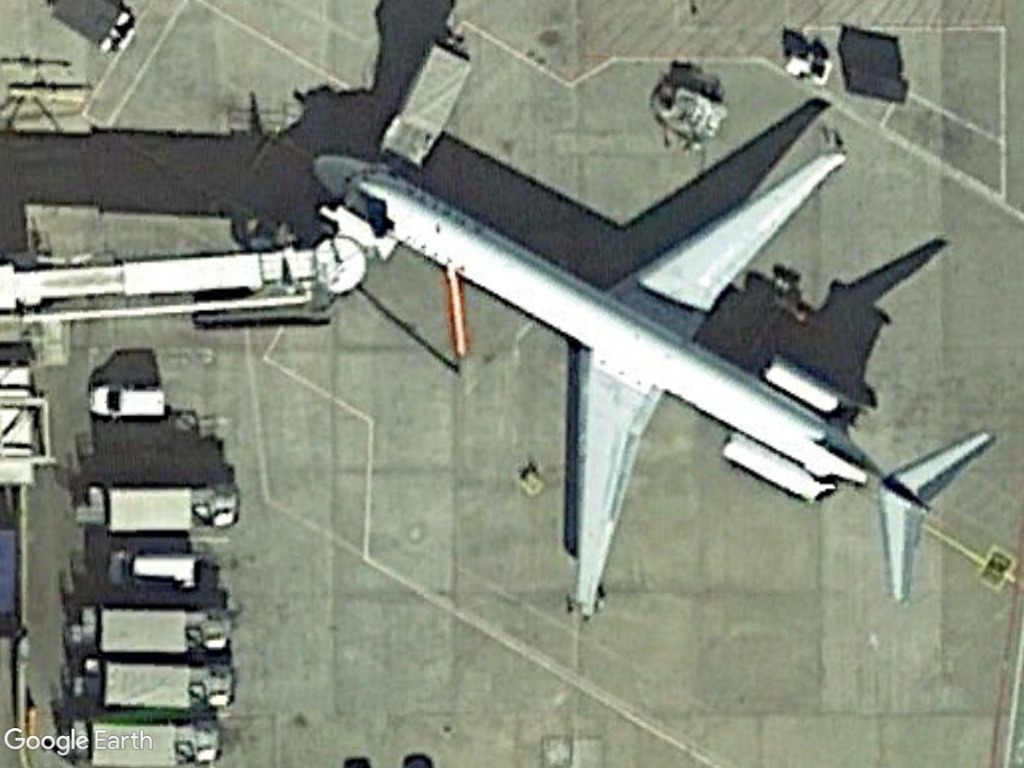car: (84, 380, 172, 424)
chartered: (308, 143, 997, 634)
truck: (100, 475, 241, 537), (92, 602, 241, 660), (95, 659, 238, 712)
